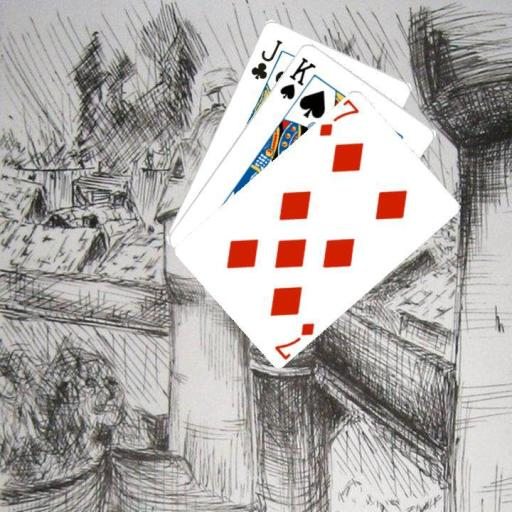7D: (316, 97, 361, 138), (271, 319, 316, 359)
JC: (247, 36, 284, 81)
KS: (276, 53, 317, 101)
